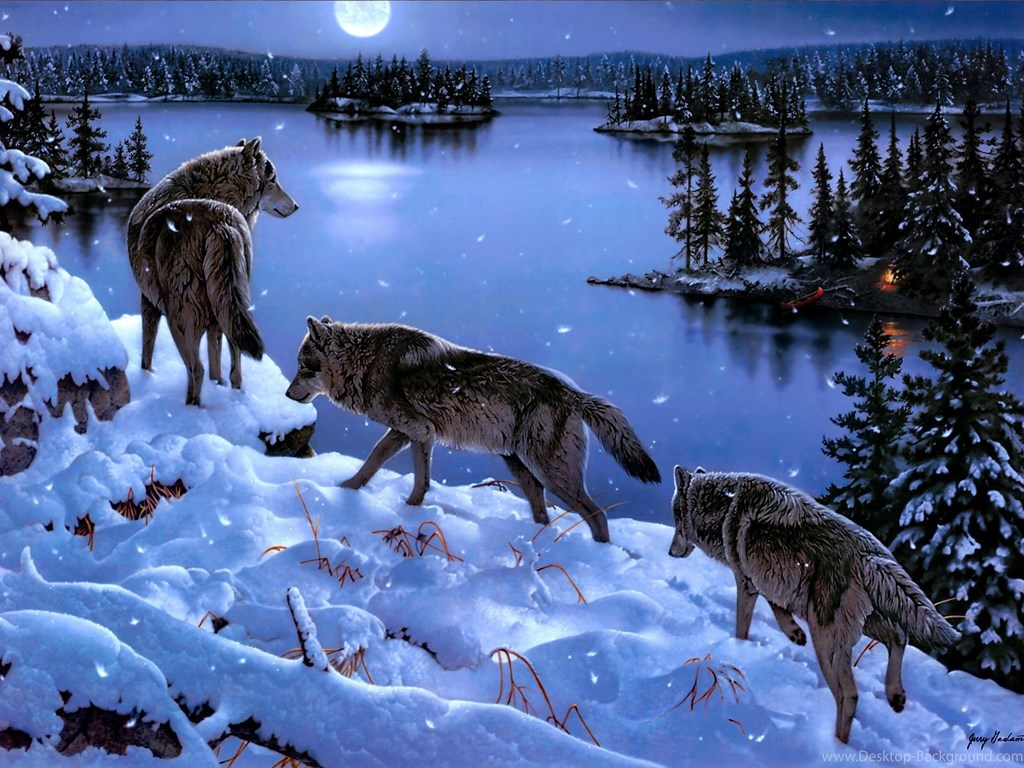wolf: (270, 284, 670, 558), (652, 439, 955, 739), (101, 117, 314, 421)
